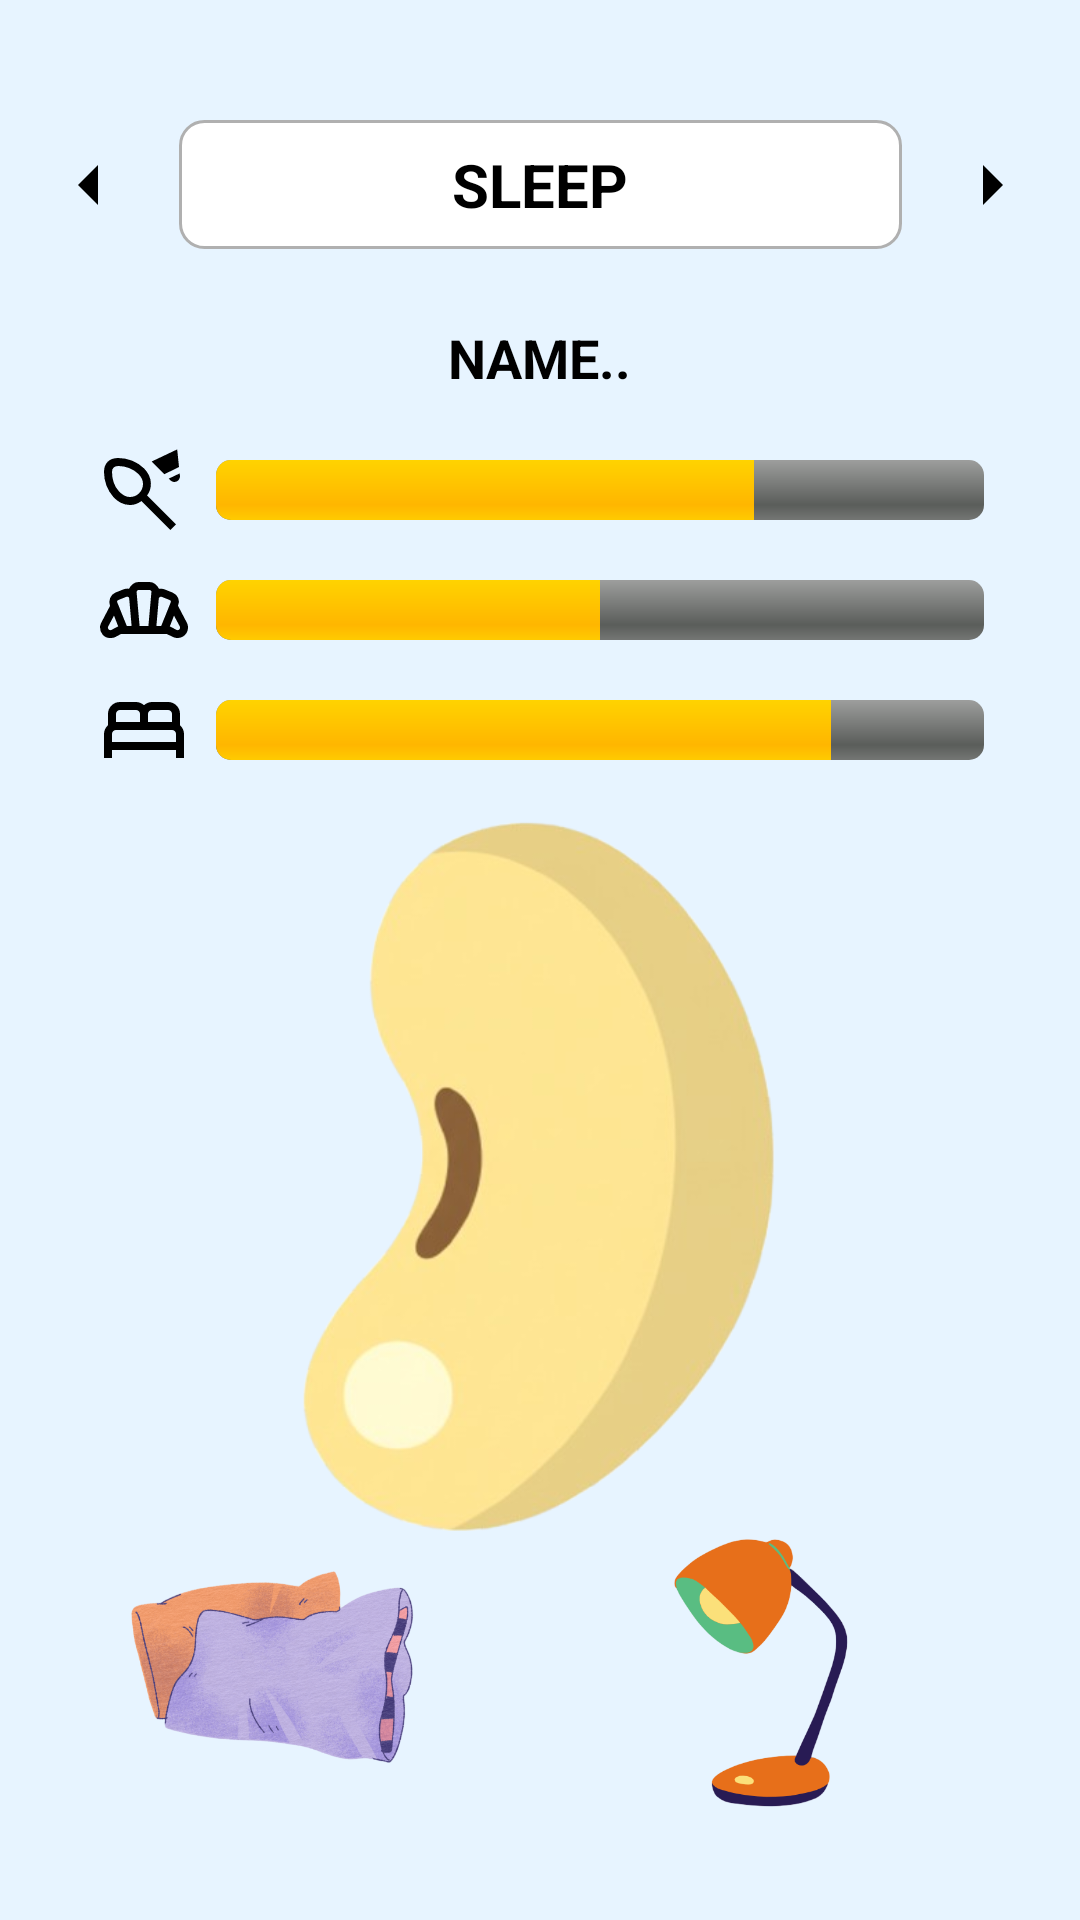

Icon click points for this 1080 x 1920 phone screenshot, format [x,y]:
Close Lamp: [761,1673]
Food Status Icon: [144,610]
Next Room: [993,185]
Play Status Icon: [142,489]
Previous Room: [88,185]
Sleep Status Icon: [144,730]
